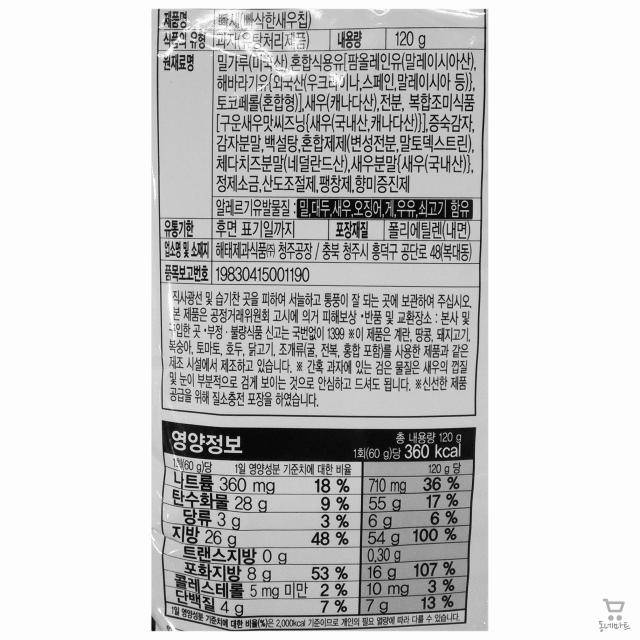Nutrition Label: (153, 413, 483, 637)
